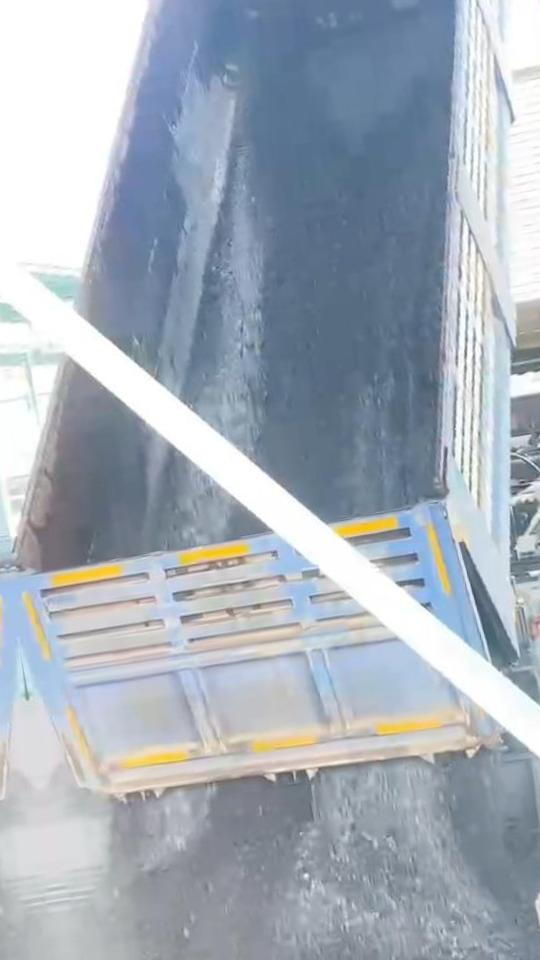gravel: (182, 12, 449, 521), (65, 757, 540, 960)
